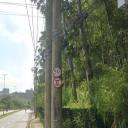speed_limit_50: (52, 68, 60, 78)
